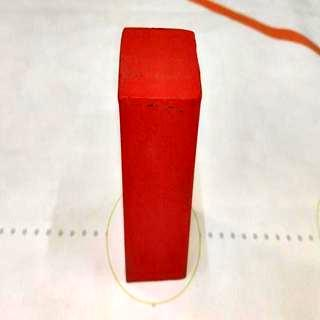redbox: (118, 24, 202, 284)
